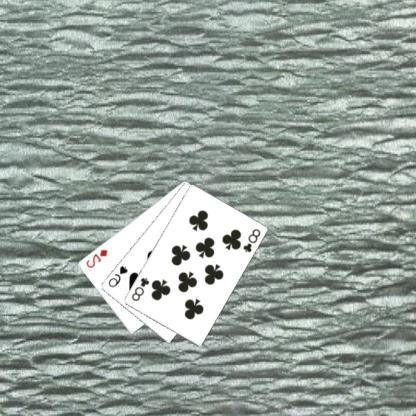2D: (85, 247, 110, 269)
8C: (130, 274, 152, 302), (242, 226, 263, 254)
9S: (107, 263, 130, 289)
